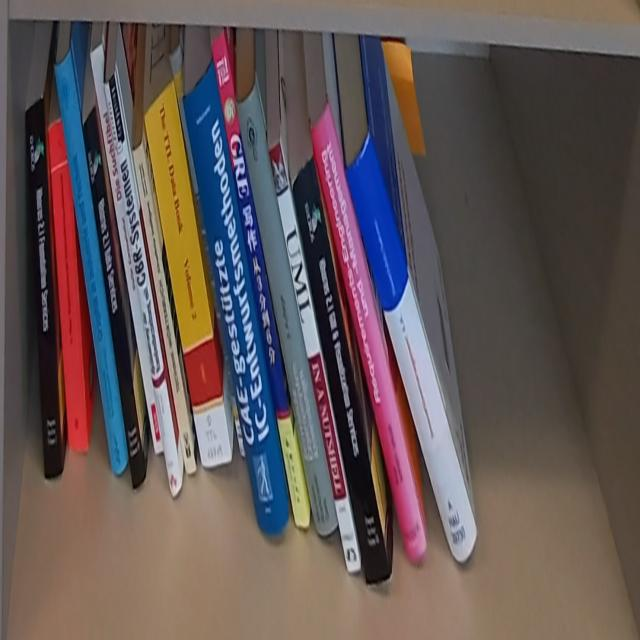Book Spine: (343, 135, 479, 561), (306, 99, 429, 563), (184, 60, 290, 540), (210, 30, 309, 526), (236, 88, 340, 542), (292, 158, 392, 589), (268, 142, 362, 575), (142, 78, 232, 471), (167, 45, 247, 465), (103, 76, 182, 498), (53, 53, 129, 479), (89, 43, 165, 459), (82, 104, 148, 494), (131, 141, 198, 481), (26, 97, 63, 485), (47, 120, 88, 455)
